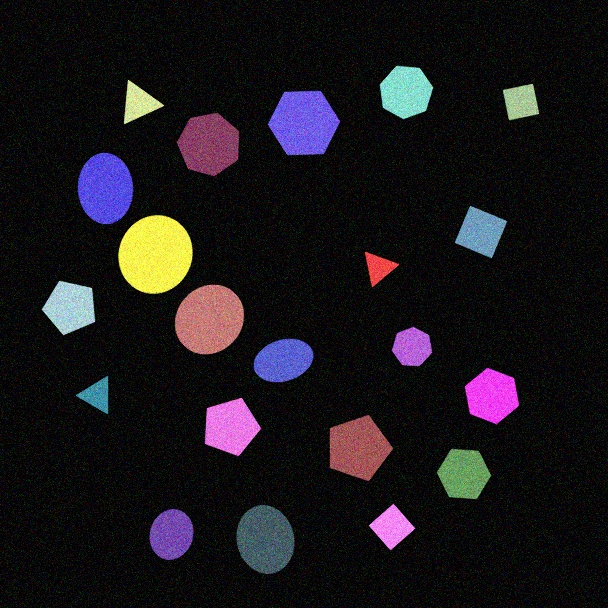Circulo: (118, 214, 193, 295), (174, 284, 245, 355), (149, 508, 194, 561)
Elipse: (236, 504, 295, 575), (77, 152, 134, 225), (253, 338, 314, 383)
Heptagono: (176, 112, 240, 177), (379, 65, 434, 120), (391, 326, 433, 367)
Hexagono: (267, 90, 341, 156), (464, 367, 520, 425), (436, 448, 492, 500)
Pentagono: (329, 414, 394, 482), (204, 397, 262, 457), (41, 280, 96, 336)
Quadrado: (454, 205, 508, 259), (368, 503, 416, 551), (502, 83, 540, 121)
Triangulo: (123, 79, 165, 125), (364, 251, 400, 288), (76, 375, 109, 415)
